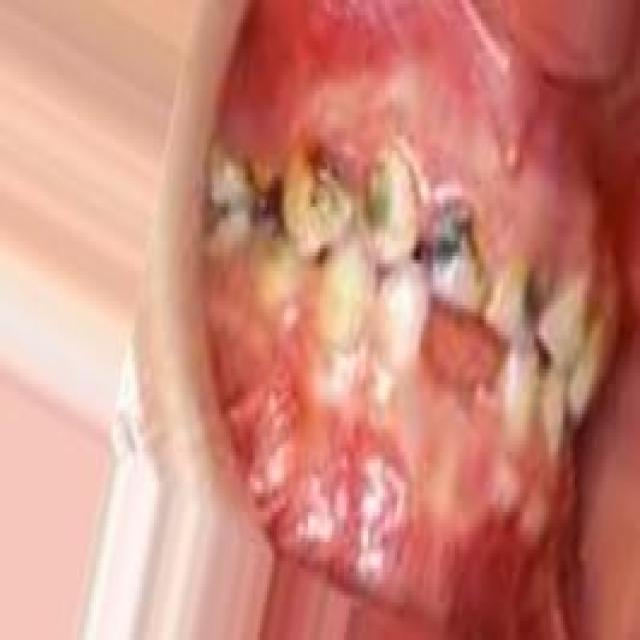caries: (281, 132, 352, 256), (425, 180, 477, 314), (487, 246, 547, 345), (362, 140, 410, 262), (244, 157, 287, 250)
